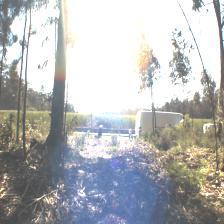trunktrack_idkeyframe: (46, 18, 68, 144)
